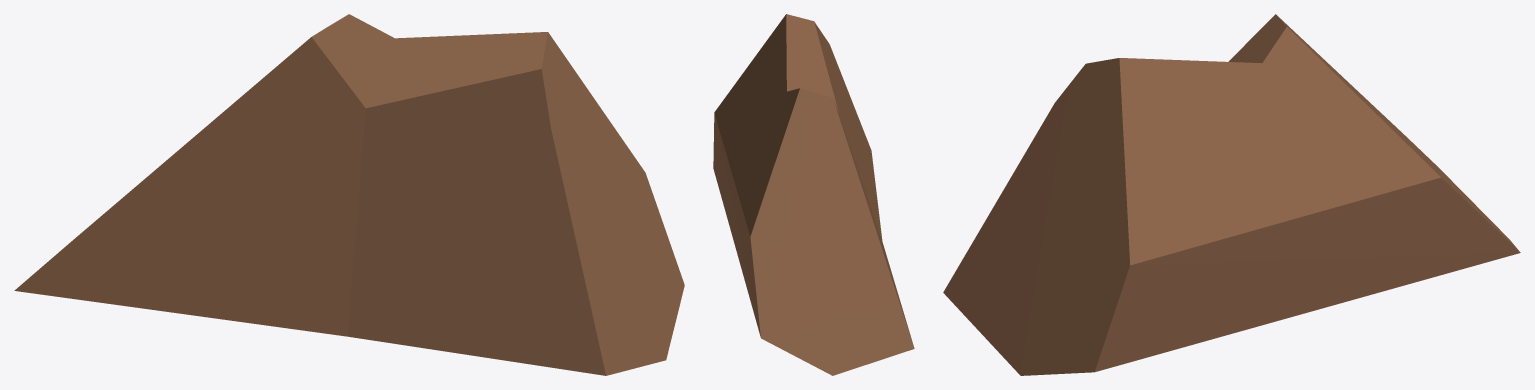
Rendered from WoodCellCube_003_cell_044.fbx.
The picture shows the model from 3 angles, left to right: view 1: azimuth 30°, elevation 25°; view 2: azimuth 150°, elevation 25°; view 3: azimuth 270°, elevation 25°; orthographic projection. The views are drawn at different scales.
Visible parts, largest first — view 1: WoodCellCube_003_cell_044; view 2: WoodCellCube_003_cell_044; view 3: WoodCellCube_003_cell_044.
Part boxes in pixels (bbox=[...]): WoodCellCube_003_cell_044: bbox=[14, 14, 684, 375]; WoodCellCube_003_cell_044: bbox=[713, 14, 914, 375]; WoodCellCube_003_cell_044: bbox=[943, 14, 1520, 375].
Bounding box in the file's own units: 0.4679 × 0.2765 × 0.4292.
Materials: 1 (1 with a texture image).
